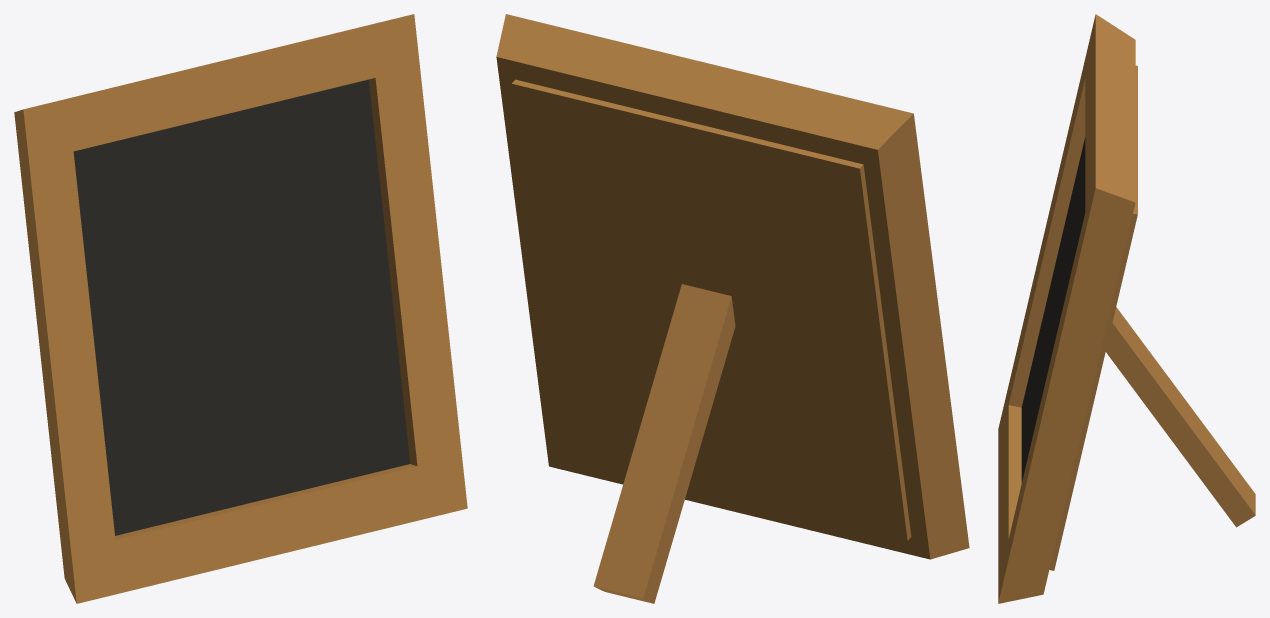
Rendered from SM_Sign_MenuCounter_Blank_01.fbx.
3 views of the same model, side by side, from view 1: azimuth 30°, elevation 25°; view 2: azimuth 150°, elevation 25°; view 3: azimuth 270°, elevation 25° (orthographic). The views are drawn at different scales.
Visible parts, largest first — view 1: SM_Sign_MenuCounter_Blank_01; view 2: SM_Sign_MenuCounter_Blank_01; view 3: SM_Sign_MenuCounter_Blank_01.
Boxes of the visible parts, bbox=[...] form: SM_Sign_MenuCounter_Blank_01: bbox=[14, 14, 467, 603]; SM_Sign_MenuCounter_Blank_01: bbox=[496, 14, 969, 603]; SM_Sign_MenuCounter_Blank_01: bbox=[998, 14, 1255, 603].
Size of the model in its own units: 0.246 by 0.2739 by 0.1538.
Materials: 1 (1 with a texture image).
